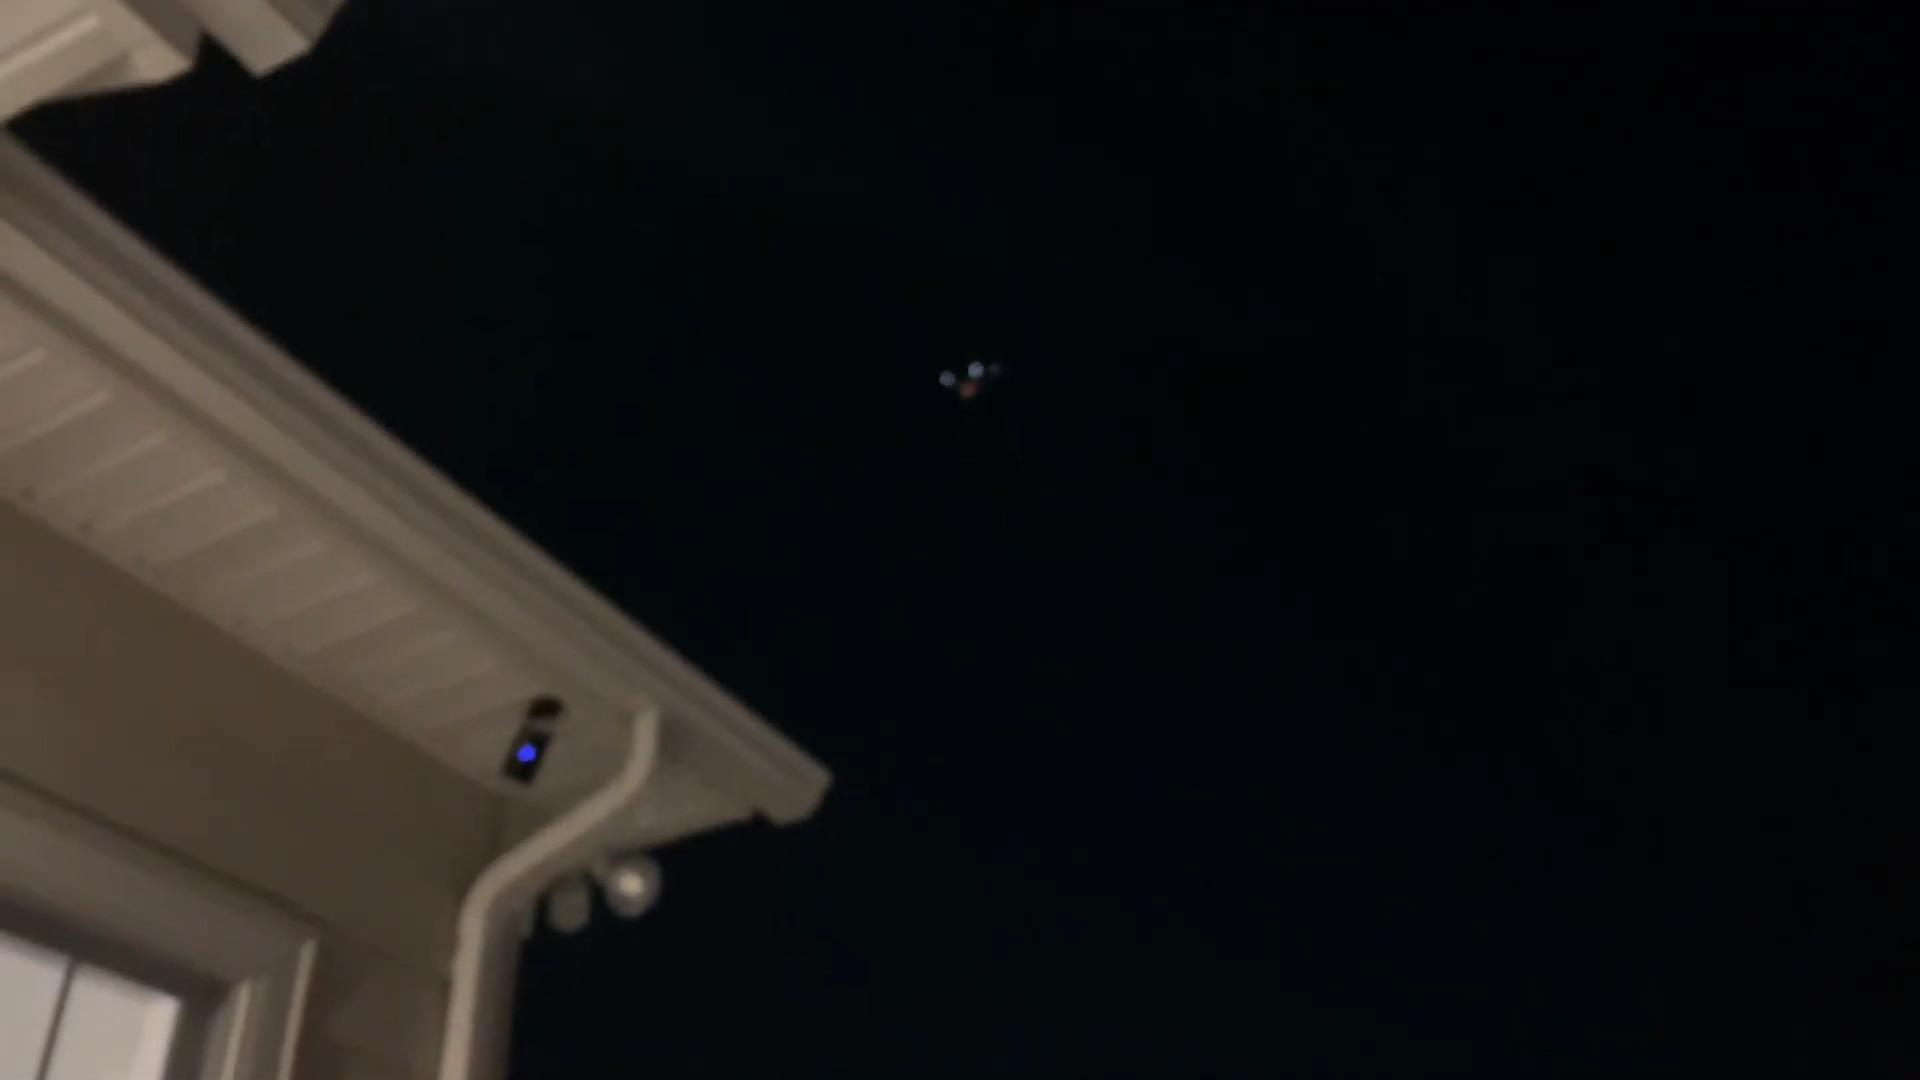Plane: (880, 344, 1054, 415)
